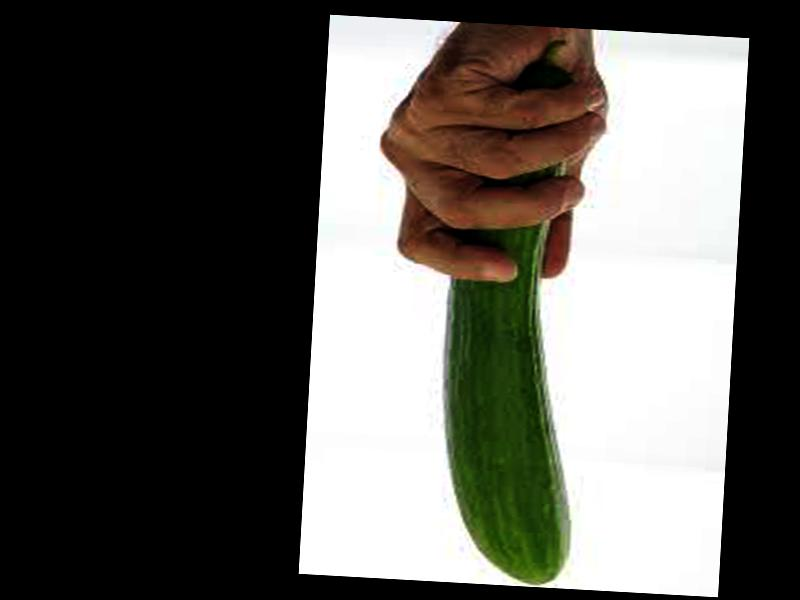Cucumber: (433, 37, 599, 589)
